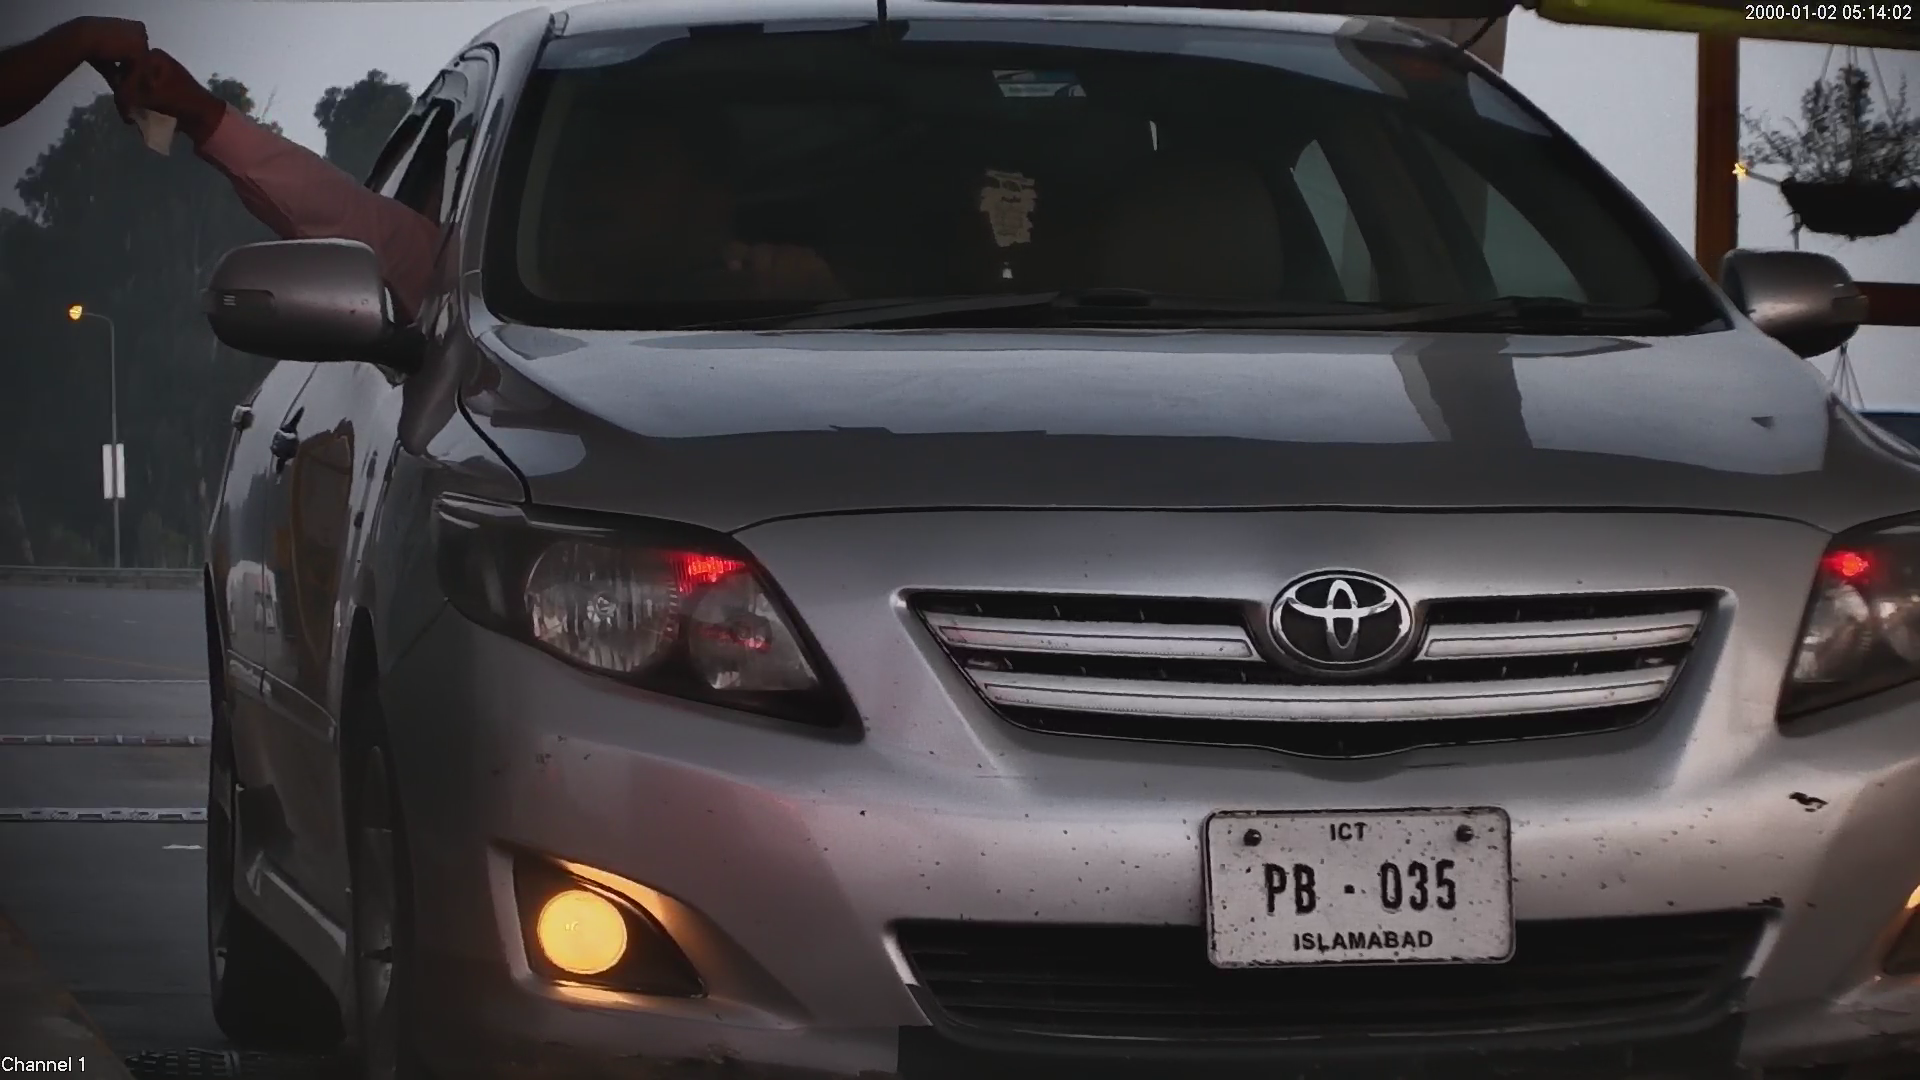Number_Plate: (1194, 800, 1526, 981)
